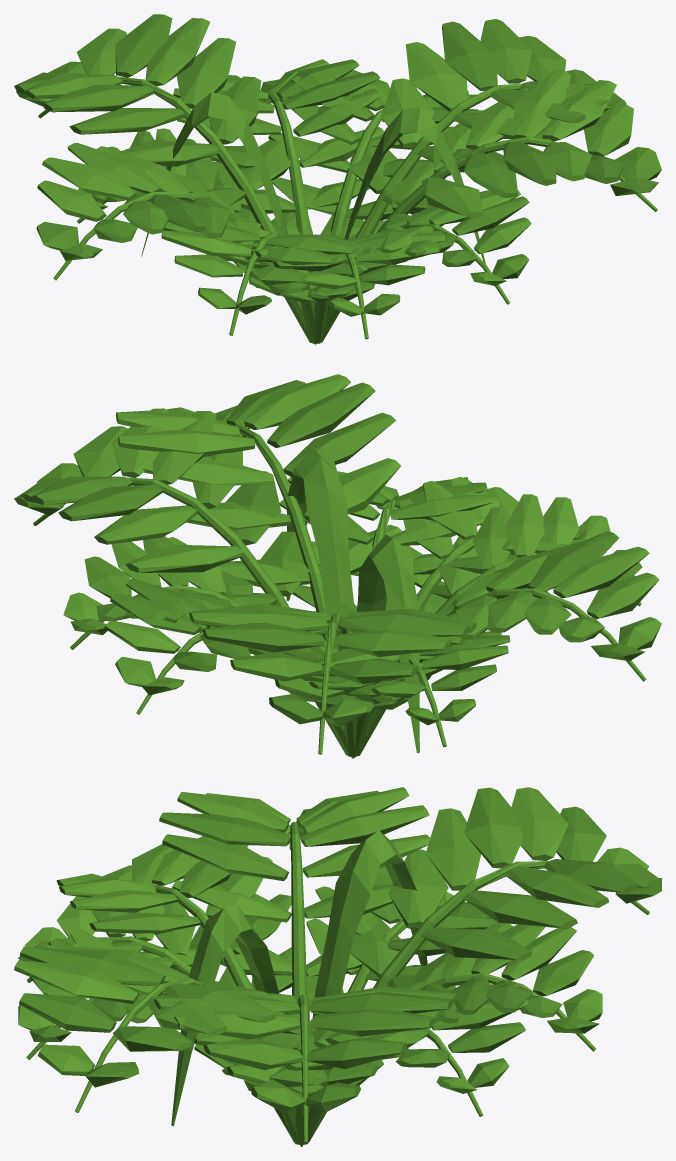
Rendered from 08_dense_fern.glb.
3 views of the same model, one above another, from view 1: azimuth 30°, elevation 25°; view 2: azimuth 150°, elevation 25°; view 3: azimuth 270°, elevation 25° (orthographic). The views are drawn at different scales.
Visible parts, largest first — view 1: 08_dense_fern; view 2: 08_dense_fern; view 3: 08_dense_fern.
Part boxes in pixels (x1,y1,x2,y2): 08_dense_fern: (14,14,661,345); 08_dense_fern: (14,374,661,758); 08_dense_fern: (14,787,661,1146).
Size of the model in its own units: 1.75 by 0.7241 by 1.53.
